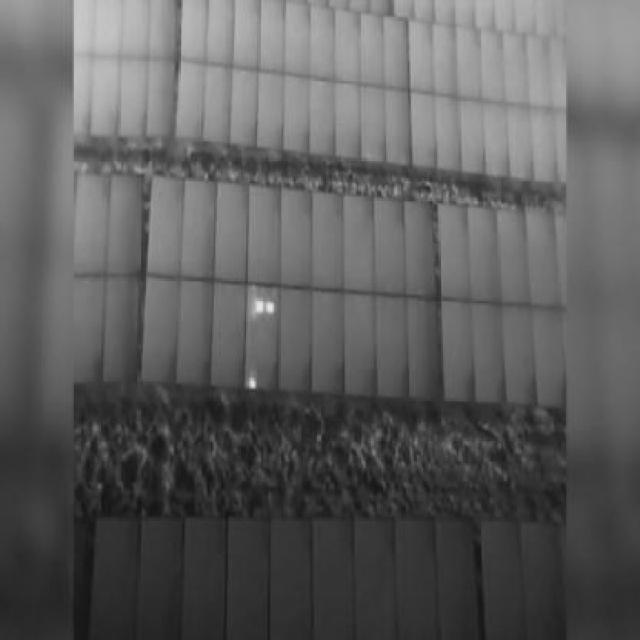hotspot: (248, 373, 260, 390), (266, 298, 276, 314), (256, 299, 264, 312)
